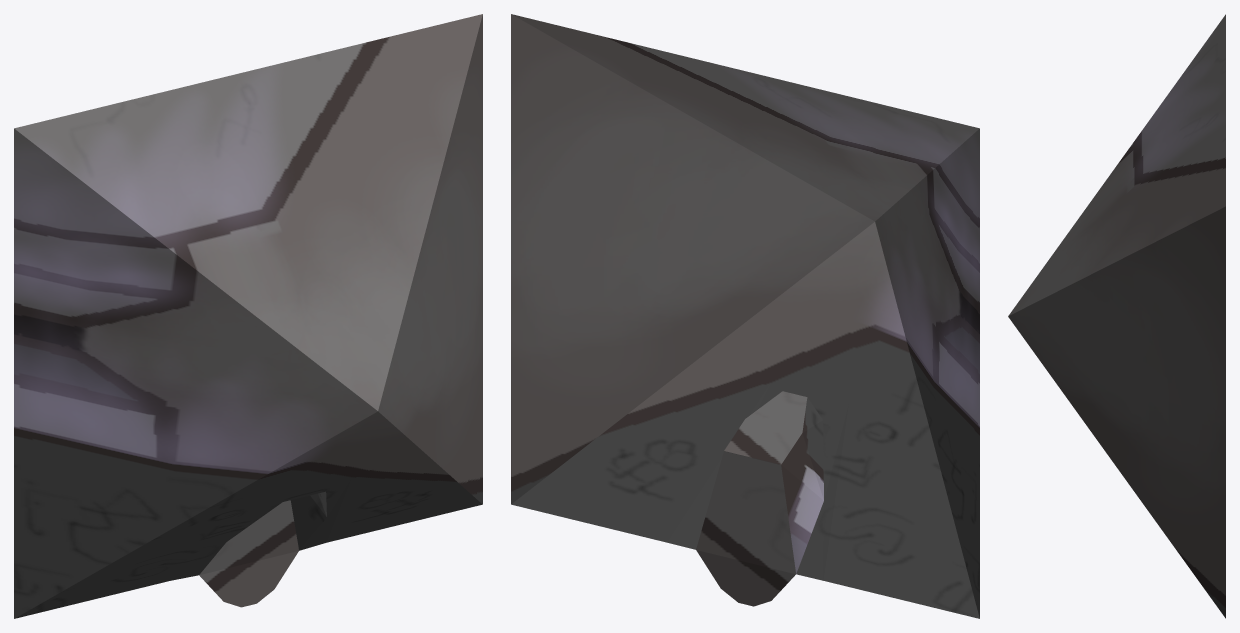
3 renders of one model, left to right at view 1: azimuth 30°, elevation 25°; view 2: azimuth 150°, elevation 25°; view 3: azimuth 270°, elevation 25°, orthographic. The views are drawn at different scales.
Parts seen in each view (by area): view 1: Cube; view 2: Cube; view 3: Cube.
Part boxes in pixels (<box>): Cube: <box>14,14,482,618</box>; Cube: <box>511,14,979,618</box>; Cube: <box>1008,14,1225,618</box>.
Bounding box in the file's own units: 7.18 × 7.81 × 3.44.
